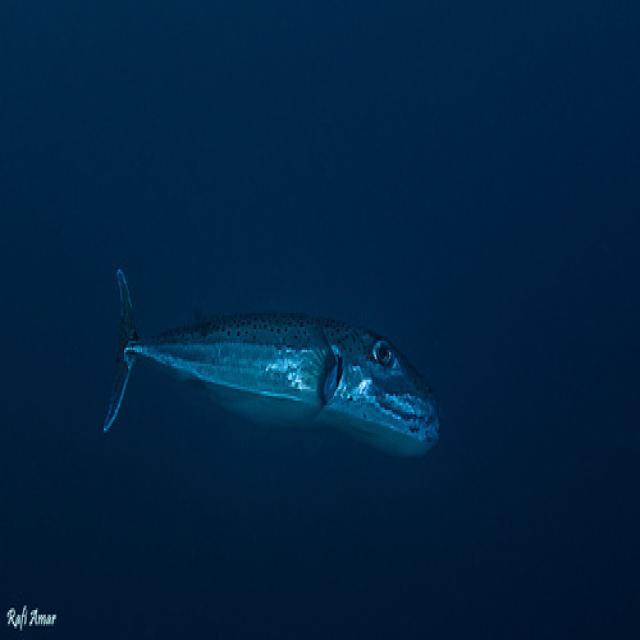Balik: (104, 270, 439, 455)
